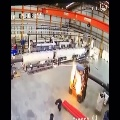fire: (70, 61, 81, 95)
